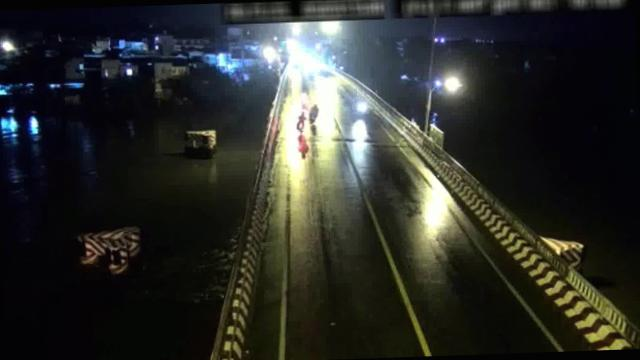Bike: (352, 98, 370, 115), (295, 110, 309, 131), (308, 103, 321, 125)
